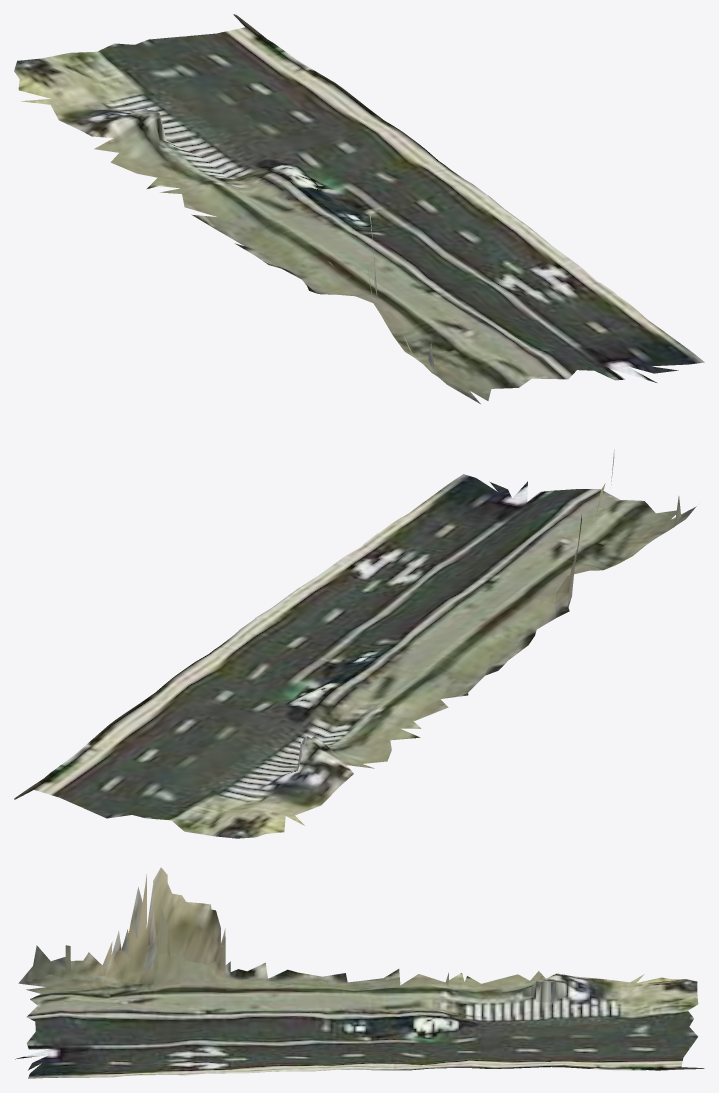
Rendered from Tile_001_003_L14_344.glb.
3 renders of one model, top to bottom at view 1: azimuth 30°, elevation 25°; view 2: azimuth 150°, elevation 25°; view 3: azimuth 270°, elevation 25°, orthographic. The views are drawn at different scales.
Parts seen in each view (by area): view 1: rtc; view 2: rtc; view 3: rtc.
Part boxes in pixels (x1,y1,x2,y2): rtc: (14,14,704,404); rtc: (14,449,696,838); rtc: (15,867,704,1078).
Bounding box in the file's own units: 22.81 × 14.15 × 71.25.
1 material, 1 textured.
